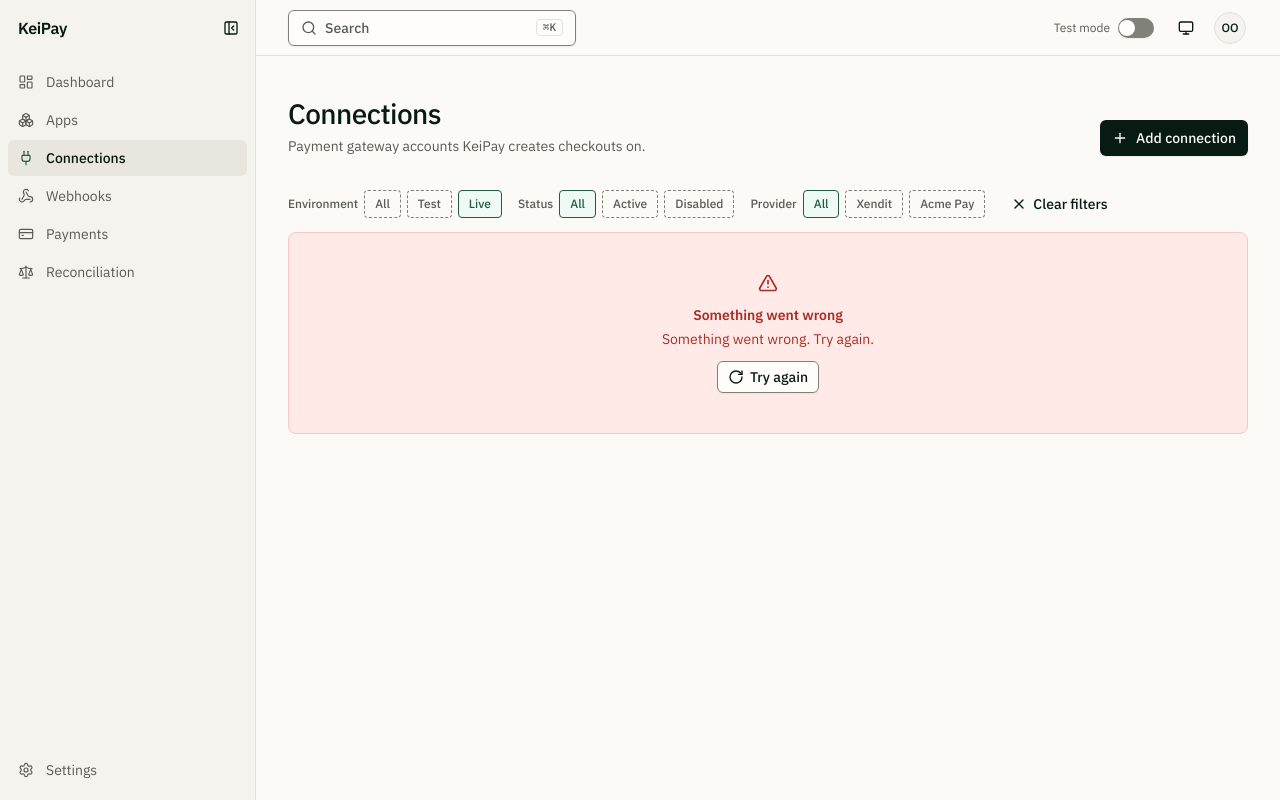
Test: Connections page › shows an error with retry
Click the button "Try again".
click(768, 377)  # box left=717, top=361, right=819, bottom=393
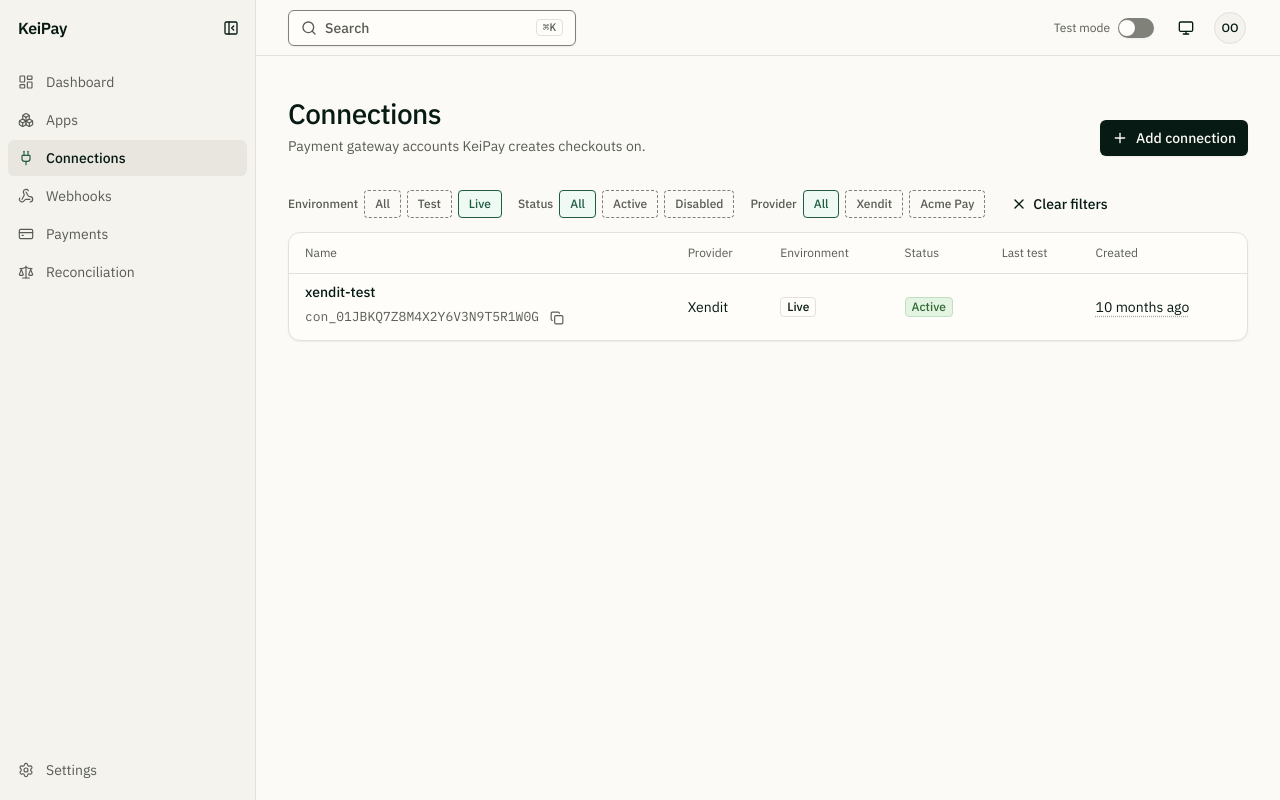
Check: the link "xendit-test" is shown, box left=305, top=282, right=375, bottom=302
